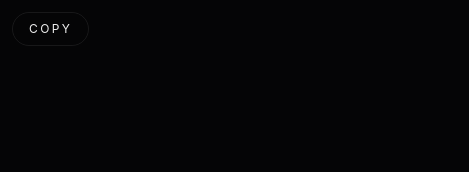
Test: copy email › works where there is no clipboard at all
Click the button with aria-label "Copy email address": (51, 29) [12,12,89,46]
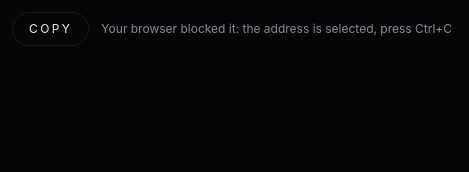
Check: the message shows "press Ctrl+C", box [101,21,452,36]
